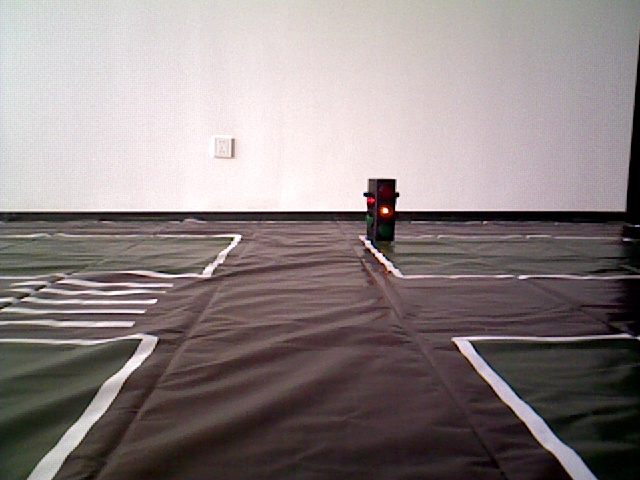yellow: (365, 172, 393, 241)
